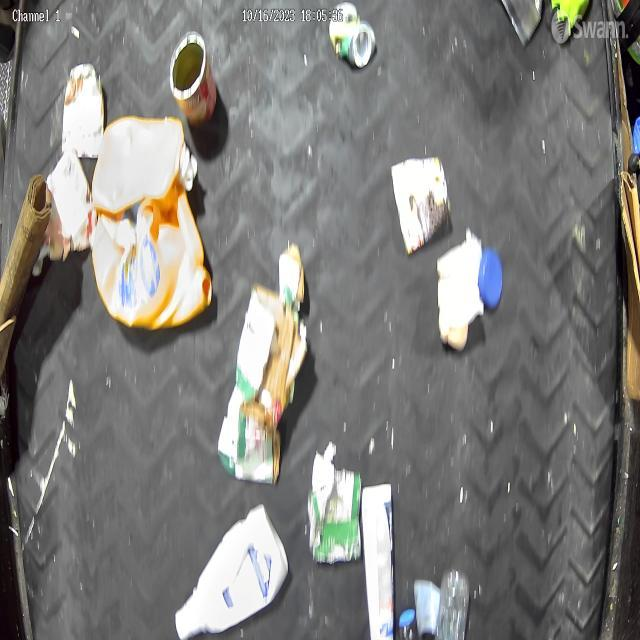can: (168, 34, 216, 122), (330, 0, 374, 66)
non_white_jug: (92, 192, 212, 326), (94, 115, 191, 207)
